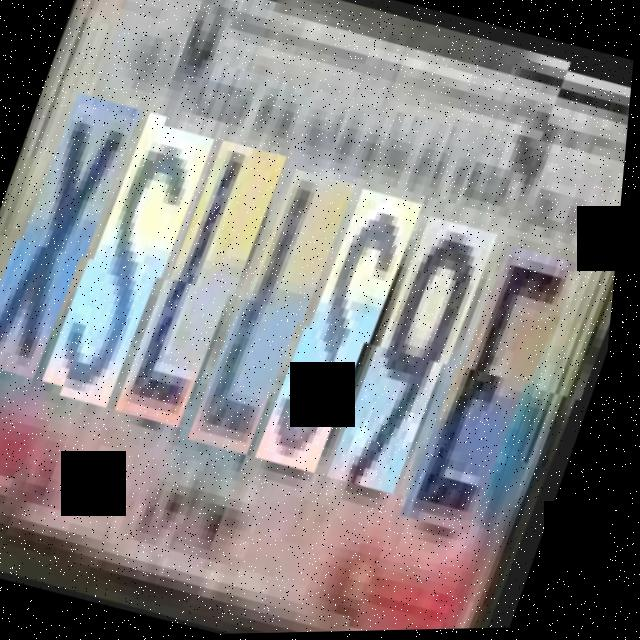9: (341, 214, 507, 500)
E: (419, 236, 588, 530)
L: (128, 139, 292, 431), (201, 168, 361, 459)
S: (50, 119, 220, 412), (269, 186, 429, 478)
X: (0, 99, 143, 392)
